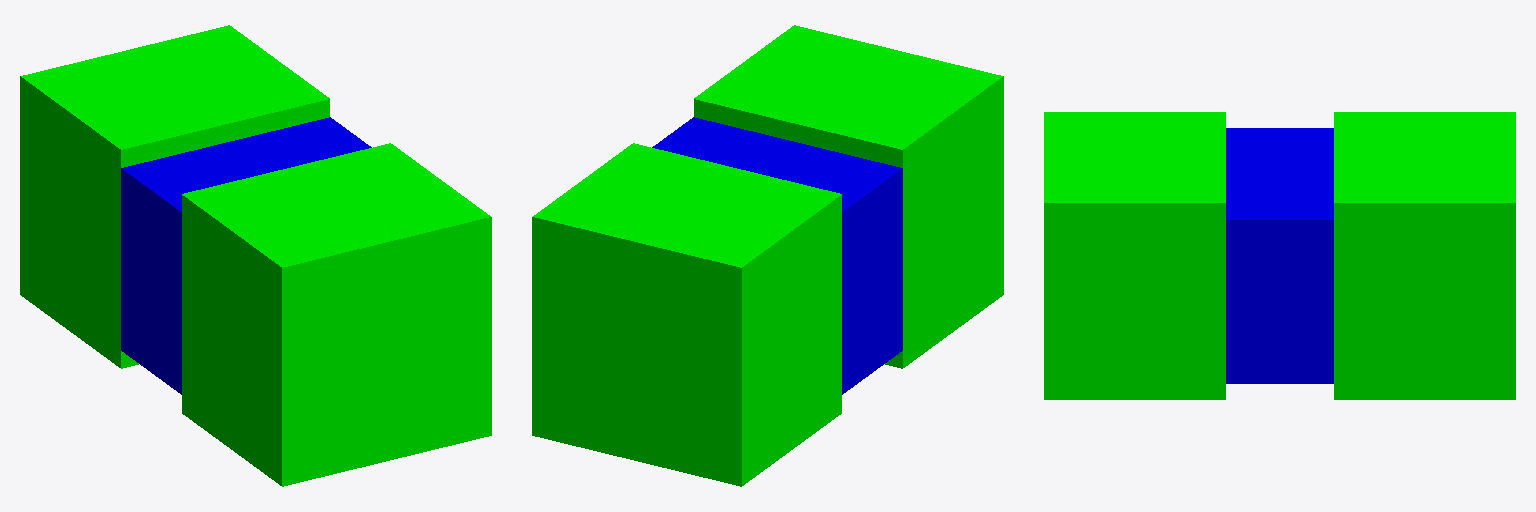
The robot description file, URDF, robot "robot":
<robot name = "robot">
    <link name="root">
        <inertial>
            <origin xyz="0.0 0.0 1.5" rpy="0 0 0"/>
            <mass value="1" />
            <inertia ixx="100" ixy="0" ixz="0" iyy="100" iyz="0" izz="100" />
        </inertial>
        <visual>
            <origin xyz="0.0 0.0 1.5" rpy="0 0 0"/>
            <geometry>
                <box size="0 0 0.0001" />
            </geometry>
            <material name="Green">
                <color rgba="0 1.0 0.0 1.0"/>
            </material>
        </visual>
        <collision>
            <origin xyz="0.0 0.0 1.5" rpy="0 0 0"/>
            <geometry>
                <box size="0 0 0.0001" />
            </geometry>
        </collision>
    </link>
    <joint name="root_000" type="revolute">
       <parent link="root"/>
       <child  link="000"/>
       <origin rpy="0 0 0" xyz="0.0 0.0 1.5" />
     <axis xyz="1 0 0"/>
       <limit effort="0.0" lower="-3.14159" upper="3.14159" velocity="0.0"/>
    </joint>
    <link name="000">
        <inertial>
            <origin xyz="0.15 0.0 0.0" rpy="0 0 0"/>
            <mass value="1" />
            <inertia ixx="100" ixy="0" ixz="0" iyy="100" iyz="0" izz="100" />
        </inertial>
        <visual>
            <origin xyz="0.15 0.0 0.0" rpy="0 0 0"/>
            <geometry>
                <box size="0.3 0.3 0.5" />
            </geometry>
            <material name="Blue">
                <color rgba="0 0.0 1.0 1.0"/>
            </material>
        </visual>
        <collision>
            <origin xyz="0.15 0.0 0.0" rpy="0 0 0"/>
            <geometry>
                <box size="0.3 0.3 0.5" />
            </geometry>
        </collision>
    </link>
    <joint name="000_010" type="revolute">
       <parent link="000"/>
       <child  link="010"/>
       <origin rpy="0 0 0" xyz="0.3 0.0 -0.0" />
     <axis xyz="1 0 0"/>
       <limit effort="0.0" lower="-3.14159" upper="3.14159" velocity="0.0"/>
    </joint>
    <link name="010">
        <inertial>
            <origin xyz="0.15 0.0 -0.0" rpy="0 0 0"/>
            <mass value="1" />
            <inertia ixx="100" ixy="0" ixz="0" iyy="100" iyz="0" izz="100" />
        </inertial>
        <visual>
            <origin xyz="0.15 0.0 -0.0" rpy="0 0 0"/>
            <geometry>
                <box size="0.3 0.3 0.5" />
            </geometry>
            <material name="Blue">
                <color rgba="0 0.0 1.0 1.0"/>
            </material>
        </visual>
        <collision>
            <origin xyz="0.15 0.0 -0.0" rpy="0 0 0"/>
            <geometry>
                <box size="0.3 0.3 0.5" />
            </geometry>
        </collision>
    </link>
    <joint name="010_010-100" type="revolute">
       <parent link="010"/>
       <child  link="010-100"/>
       <origin rpy="0 0 0" xyz="0.15 0.15 -0.0" />
     <axis xyz="0 1 0"/>
       <limit effort="0.0" lower="-3.14159" upper="3.14159" velocity="0.0"/>
    </joint>
    <link name="010-100">
        <inertial>
            <origin xyz="0.0 0.25 -0.0" rpy="0 0 0"/>
            <mass value="1" />
            <inertia ixx="100" ixy="0" ixz="0" iyy="100" iyz="0" izz="100" />
        </inertial>
        <visual>
            <origin xyz="0.0 0.25 -0.0" rpy="0 0 0"/>
            <geometry>
                <box size="0.3 0.5 0.6" />
            </geometry>
            <material name="Green">
                <color rgba="0 1.0 0.0 1.0"/>
            </material>
        </visual>
        <collision>
            <origin xyz="0.0 0.25 -0.0" rpy="0 0 0"/>
            <geometry>
                <box size="0.3 0.5 0.6" />
            </geometry>
        </collision>
    </link>
    <joint name="010_010-101" type="revolute">
       <parent link="010"/>
       <child  link="010-101"/>
       <origin rpy="0 0 0" xyz="0.15 -0.15 -0.0" />
     <axis xyz="0 1 0"/>
       <limit effort="0.0" lower="-3.14159" upper="3.14159" velocity="0.0"/>
    </joint>
    <link name="010-101">
        <inertial>
            <origin xyz="0.0 -0.25 -0.0" rpy="0 0 0"/>
            <mass value="1" />
            <inertia ixx="100" ixy="0" ixz="0" iyy="100" iyz="0" izz="100" />
        </inertial>
        <visual>
            <origin xyz="0.0 -0.25 -0.0" rpy="0 0 0"/>
            <geometry>
                <box size="0.3 0.5 0.6" />
            </geometry>
            <material name="Green">
                <color rgba="0 1.0 0.0 1.0"/>
            </material>
        </visual>
        <collision>
            <origin xyz="0.0 -0.25 -0.0" rpy="0 0 0"/>
            <geometry>
                <box size="0.3 0.5 0.6" />
            </geometry>
        </collision>
    </link>
    <joint name="000_000-100" type="revolute">
       <parent link="000"/>
       <child  link="000-100"/>
       <origin rpy="0 0 0" xyz="0.15 0.15 -0.0" />
     <axis xyz="0 1 0"/>
       <limit effort="0.0" lower="-3.14159" upper="3.14159" velocity="0.0"/>
    </joint>
    <link name="000-100">
        <inertial>
            <origin xyz="0.0 0.25 -0.0" rpy="0 0 0"/>
            <mass value="1" />
            <inertia ixx="100" ixy="0" ixz="0" iyy="100" iyz="0" izz="100" />
        </inertial>
        <visual>
            <origin xyz="0.0 0.25 -0.0" rpy="0 0 0"/>
            <geometry>
                <box size="0.3 0.5 0.6" />
            </geometry>
            <material name="Green">
                <color rgba="0 1.0 0.0 1.0"/>
            </material>
        </visual>
        <collision>
            <origin xyz="0.0 0.25 -0.0" rpy="0 0 0"/>
            <geometry>
                <box size="0.3 0.5 0.6" />
            </geometry>
        </collision>
    </link>
    <joint name="000_000-101" type="revolute">
       <parent link="000"/>
       <child  link="000-101"/>
       <origin rpy="0 0 0" xyz="0.15 -0.15 -0.0" />
     <axis xyz="0 1 0"/>
       <limit effort="0.0" lower="-3.14159" upper="3.14159" velocity="0.0"/>
    </joint>
    <link name="000-101">
        <inertial>
            <origin xyz="0.0 -0.25 -0.0" rpy="0 0 0"/>
            <mass value="1" />
            <inertia ixx="100" ixy="0" ixz="0" iyy="100" iyz="0" izz="100" />
        </inertial>
        <visual>
            <origin xyz="0.0 -0.25 -0.0" rpy="0 0 0"/>
            <geometry>
                <box size="0.3 0.5 0.6" />
            </geometry>
            <material name="Green">
                <color rgba="0 1.0 0.0 1.0"/>
            </material>
        </visual>
        <collision>
            <origin xyz="0.0 -0.25 -0.0" rpy="0 0 0"/>
            <geometry>
                <box size="0.3 0.5 0.6" />
            </geometry>
        </collision>
    </link>
</robot>

--- Facts derived from the render (not from the file) ---
Views: 3 orthographic renders of the robot side by side, from view 1: azimuth 30°, elevation 25°; view 2: azimuth 150°, elevation 25°; view 3: azimuth 270°, elevation 25°.
Robot: robot — 7 links, 6 joints (6 revolute); root link root; default pose: every joint at zero.
Visible links, largest first — view 1: 000-101, 000-100, 010-101, 000, 010-100, 010; view 2: 000-100, 000-101, 010-100, 000, 010-101, 010; view 3: 010-100, 010-101, 010, 000-100, 000-101, 000.
Link boxes in pixels (<box>): 000-101: <box>182,169,386,486</box>; 000-100: <box>20,51,225,368</box>; 010-101: <box>287,143,491,460</box>; 000: <box>121,143,266,394</box>; 010-100: <box>126,25,329,141</box>; 010: <box>226,117,371,172</box>; 000-100: <box>637,169,841,486</box>; 000-101: <box>798,51,1003,368</box>; 010-100: <box>532,143,736,460</box>; 000: <box>757,143,902,394</box>; 010-101: <box>694,25,897,141</box>; 010: <box>652,117,797,172</box>; 010-100: <box>1334,157,1515,399</box>; 010-101: <box>1044,157,1225,399</box>; 010: <box>1226,174,1333,383</box>; 000-100: <box>1334,112,1515,156</box>; 000-101: <box>1044,112,1225,156</box>; 000: <box>1226,128,1333,173</box>.
Size in the robot's own frame: 0.6 by 1.3 by 0.6 metres.
Geometry: primitives only (box / cylinder / sphere), no mesh files.
